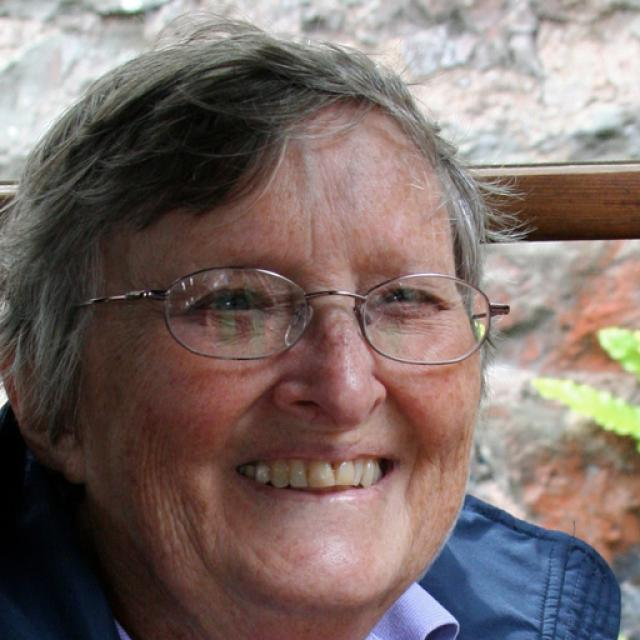Pigmentation: (288, 312, 372, 391)
